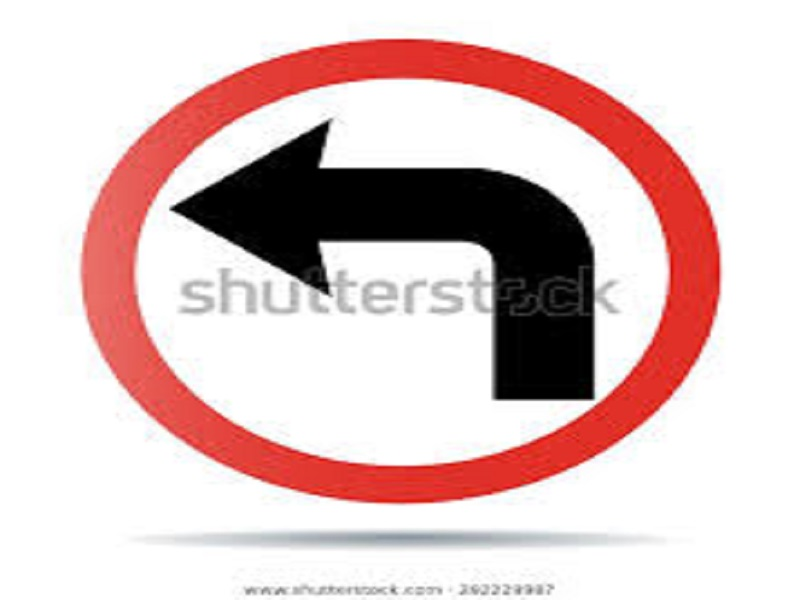solaDon: (162, 111, 610, 413)
